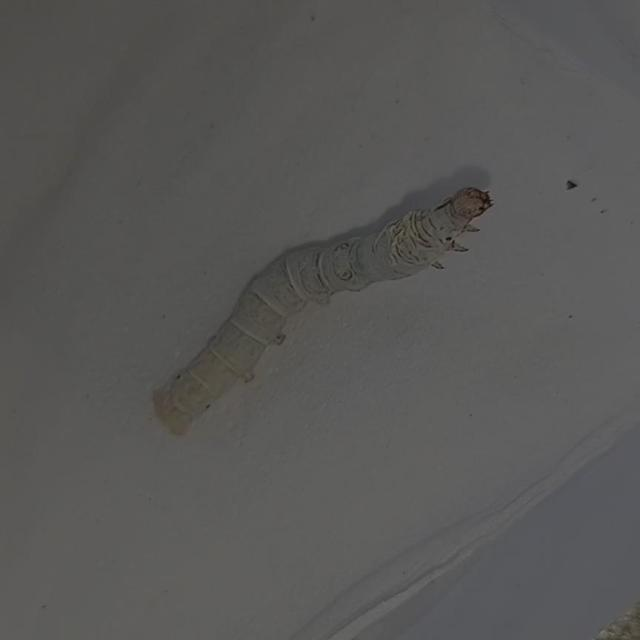Healthy: (132, 153, 527, 476)
